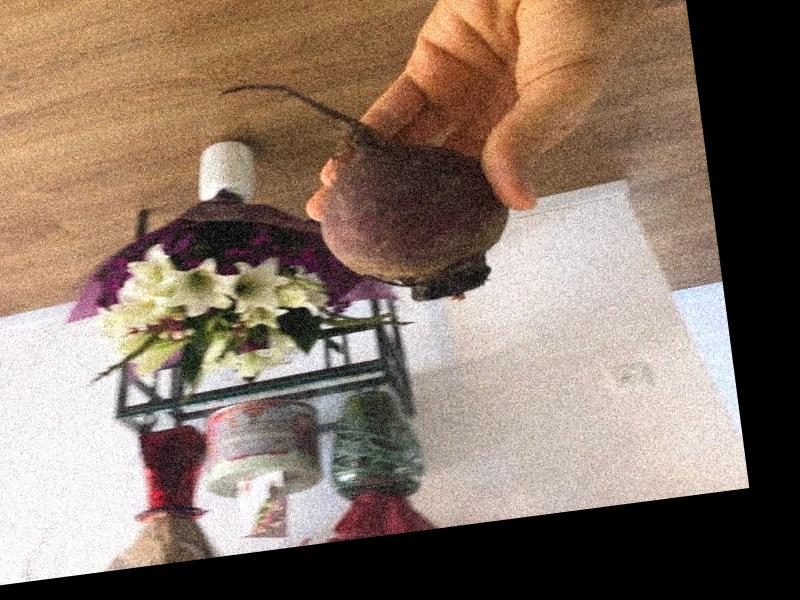Beet: (214, 54, 517, 326)
